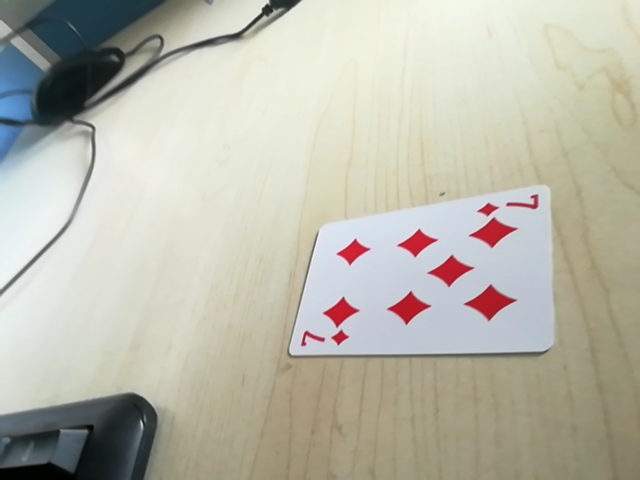fk 7: (476, 191, 540, 220), (294, 327, 354, 353)
